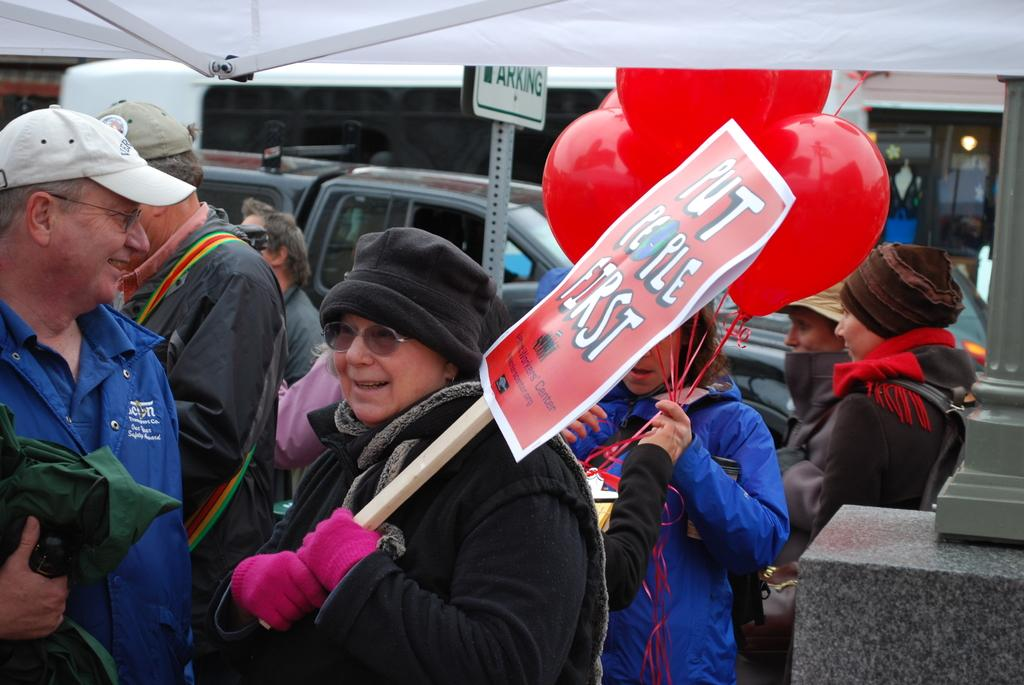Hat: (312, 230, 505, 370), (0, 103, 197, 206), (96, 100, 194, 162), (776, 282, 844, 324)
